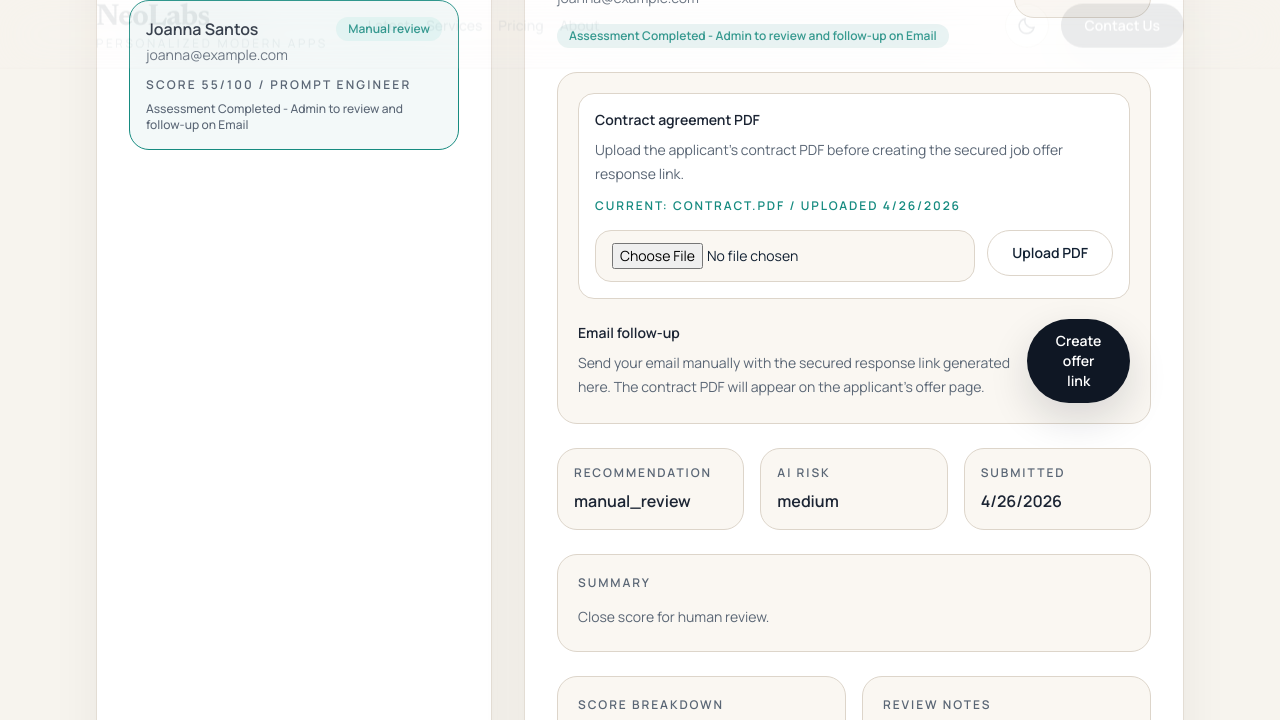
Test case: CareerAdmin page › creates offer links for manual-review applicants with uploaded contracts
(page scrolled)
Click the button "Create offer link" at {"x": 1079, "y": 360}, box [1027, 318, 1130, 402]
(page scrolled)
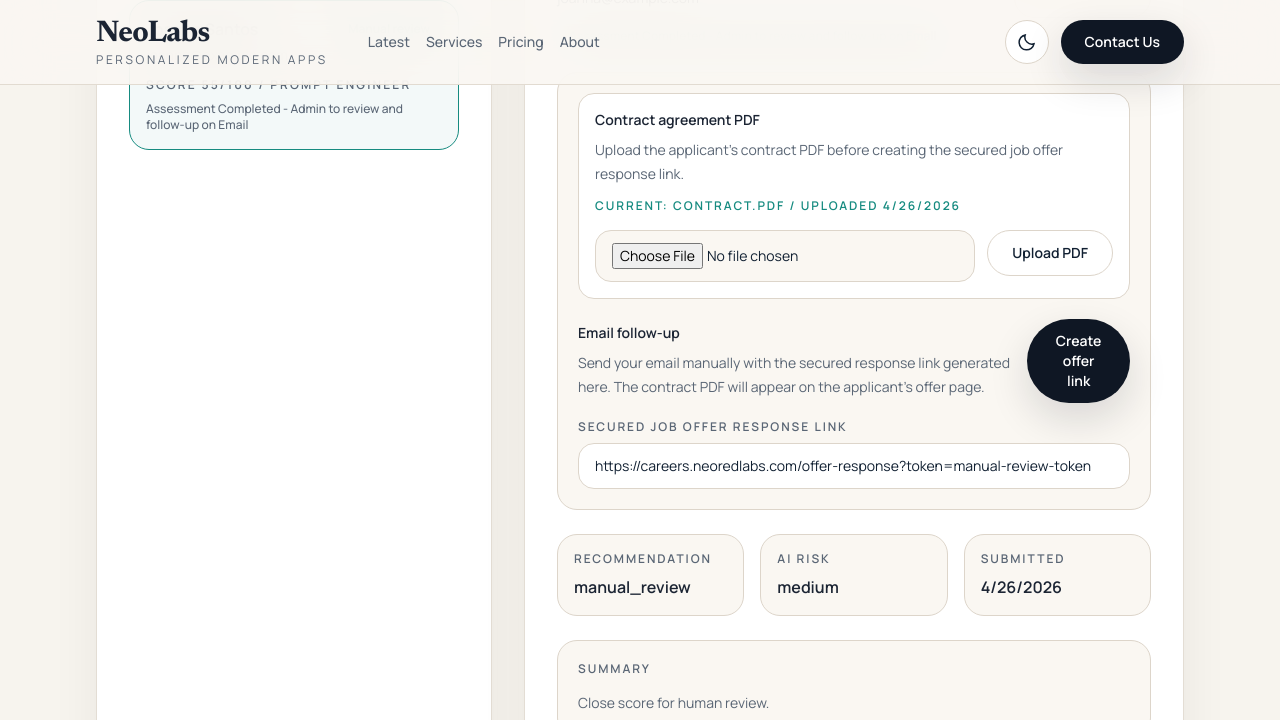
Now the field showing "https://careers.neoredlabs.com/offer-response?token=manual-review-token" is shown, box [578, 442, 1130, 488]
